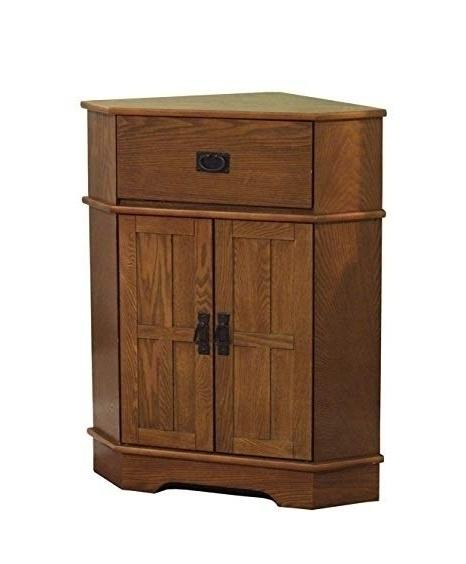cabinet_door: (217, 225, 315, 461), (117, 221, 211, 453), (116, 118, 314, 204)
handle: (195, 147, 232, 178), (196, 305, 213, 358), (217, 310, 232, 359)
